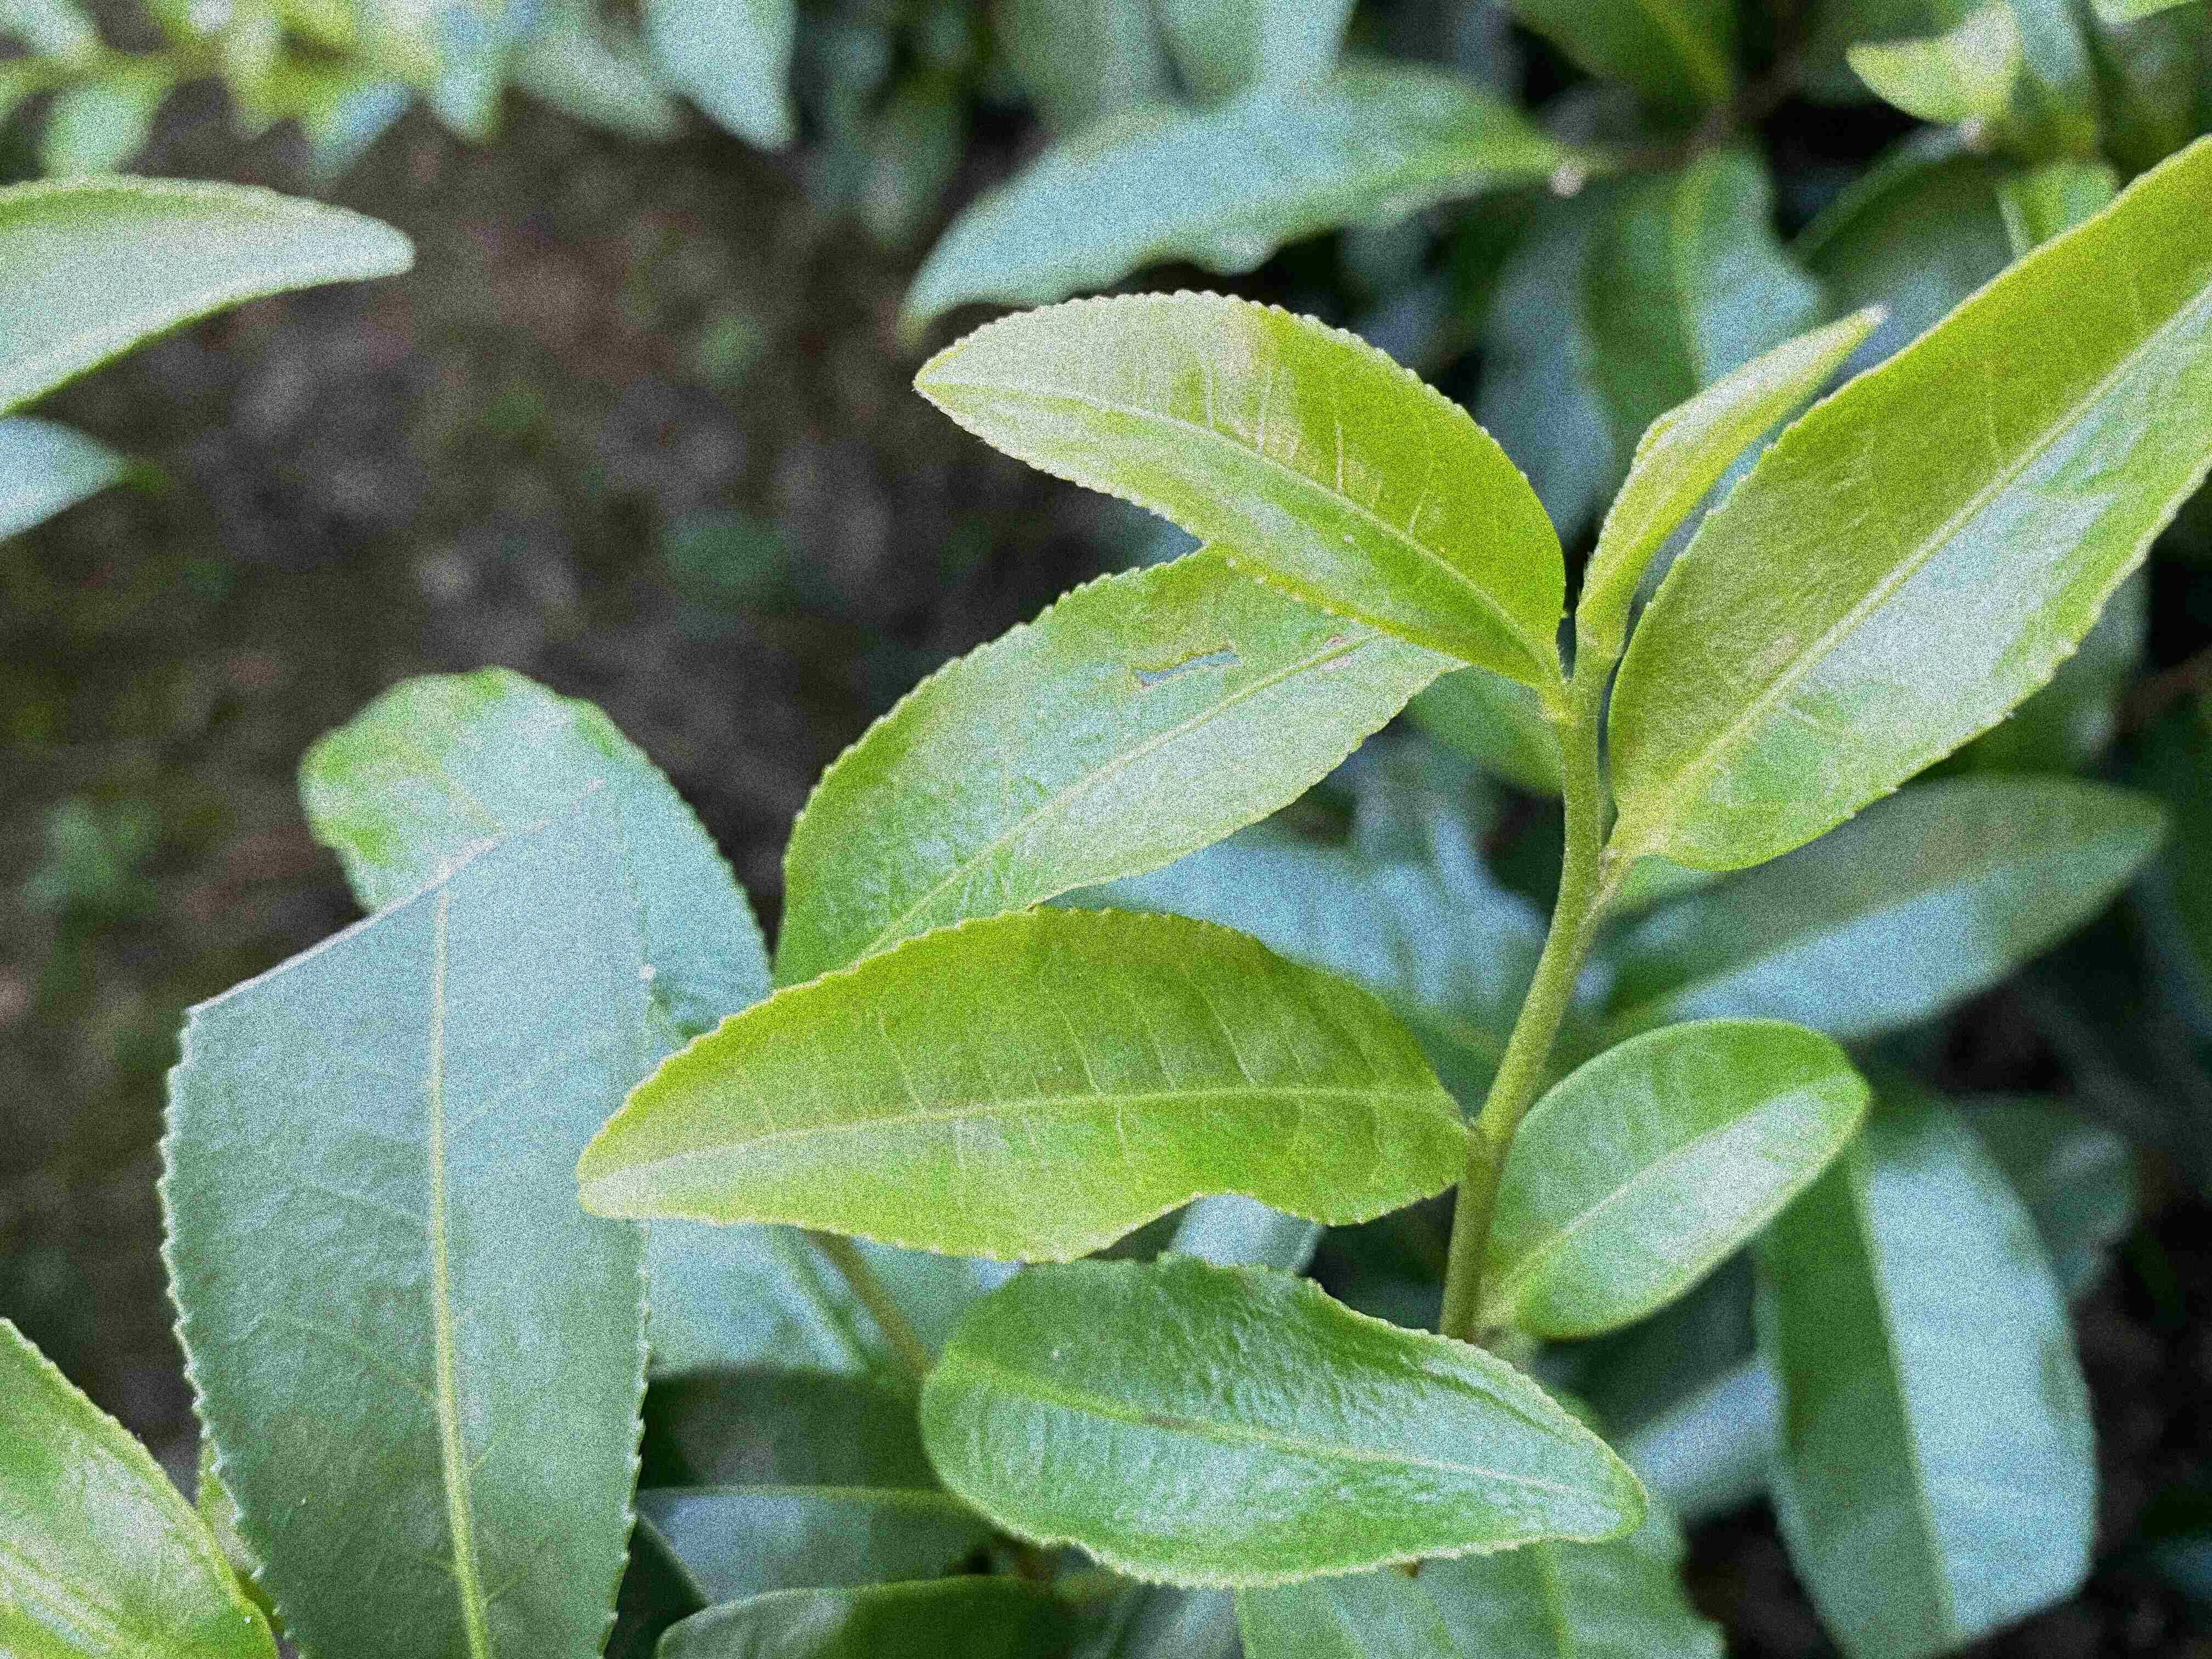chihuo_high: (150, 775, 657, 1657)
chihuo_low: (770, 547, 1474, 990)
healthy: (1604, 139, 2212, 871), (575, 899, 1470, 1267), (913, 286, 1569, 683), (914, 1251, 1651, 1595), (1465, 1011, 1871, 1342)
